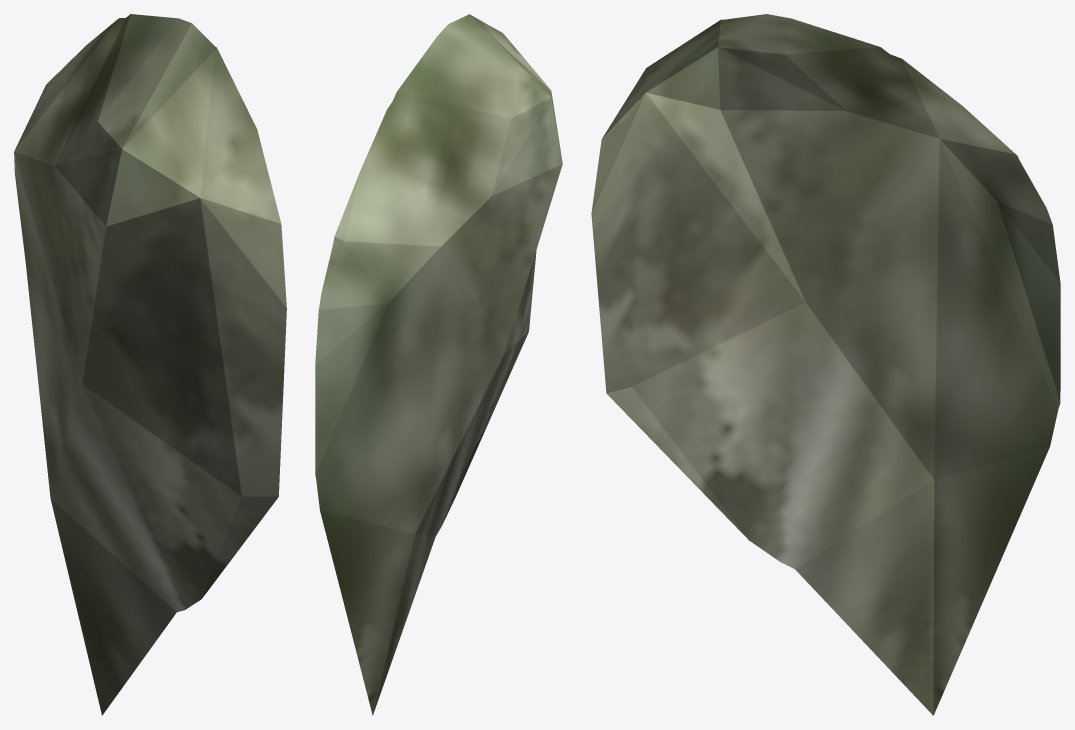
3 views of the same model, side by side, from view 1: azimuth 30°, elevation 25°; view 2: azimuth 150°, elevation 25°; view 3: azimuth 270°, elevation 25° (orthographic). The views are drawn at different scales.
Bounding box in the file's own units: 0.1272 × 0.8289 × 0.502.
1 material, 1 textured.
